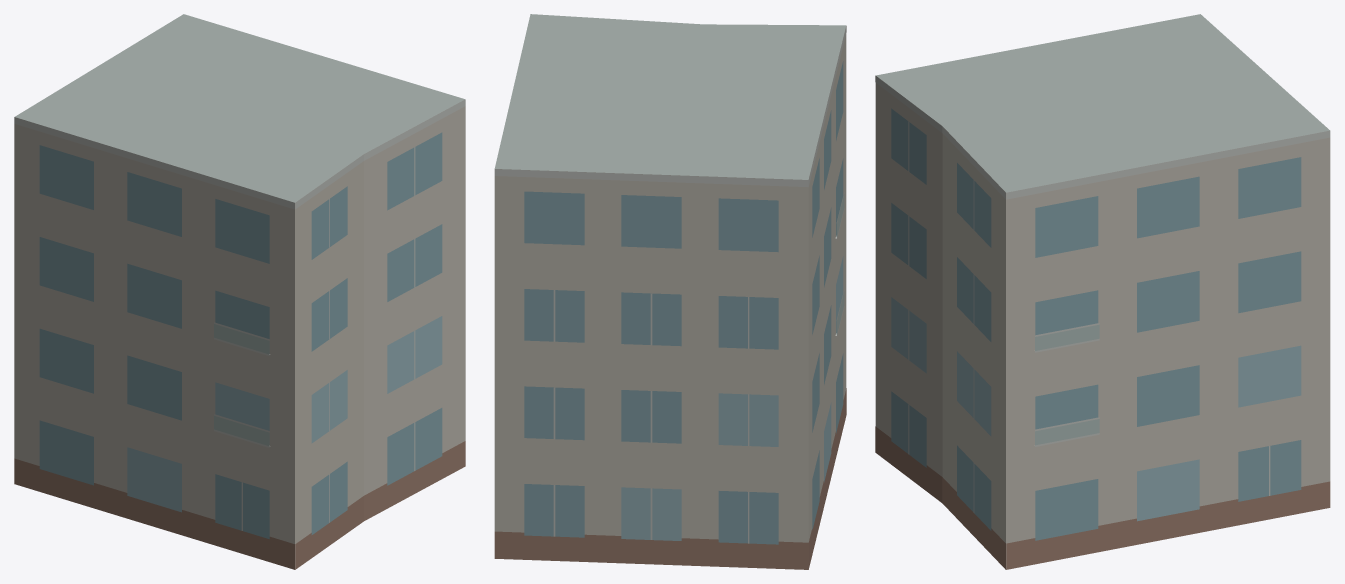
File: survey-upis-32731833.glb
3 renders of one model, left to right at view 1: azimuth 30°, elevation 25°; view 2: azimuth 150°, elevation 25°; view 3: azimuth 270°, elevation 25°, orthographic. The views are drawn at different scales.
Parts seen in each view (by area): view 1: survey-upis-32731833.tmp; view 2: survey-upis-32731833.tmp; view 3: survey-upis-32731833.tmp.
Boxes of the visible parts, x1,y1,x2,y2 form: survey-upis-32731833.tmp: (14, 14, 465, 569); survey-upis-32731833.tmp: (494, 14, 846, 569); survey-upis-32731833.tmp: (875, 14, 1330, 569).
Bounding box in the file's own units: 13.48 × 13.25 × 14.49.
